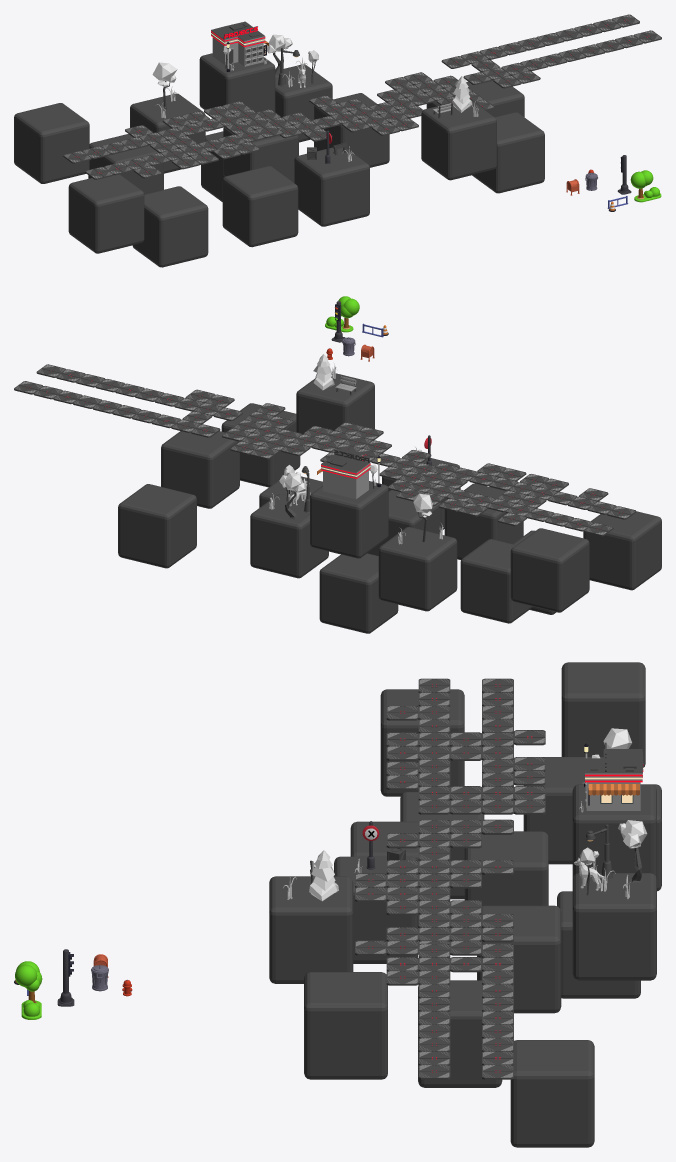
3 views of the same model, one above another, from view 1: azimuth 30°, elevation 25°; view 2: azimuth 150°, elevation 25°; view 3: azimuth 270°, elevation 25° (orthographic). The views are drawn at different scales.
Parts seen in each view (by area): view 1: cubes background, Plane.026, Plane.025, Plane.032, Plane.031, Plane.003, Cube.024, Trees; view 2: cubes background, Plane.026, Plane.025, Plane.031, Plane.032, Plane.003, Cube.024, Trees; view 3: cubes background, Plane.025, Plane.031, Plane.026, Plane.032, Plane.003, Cube.024, Trees.
Part boxes in pixels (left/top/right/bottom): cubes background: left=14, top=53, right=544, bottom=267; Plane.026: left=441, top=14, right=639, bottom=68; Plane.025: left=463, top=30, right=661, bottom=84; Plane.032: left=63, top=109, right=261, bottom=163; Plane.031: left=85, top=125, right=283, bottom=179; Plane.003: left=279, top=85, right=472, bottom=138; Cube.024: left=211, top=21, right=265, bottom=66; Trees: left=630, top=170, right=661, bottom=202; cubes background: left=118, top=372, right=661, bottom=633; Plane.026: left=14, top=381, right=220, bottom=437; Plane.025: left=36, top=364, right=242, bottom=421; Plane.031: left=430, top=463, right=636, bottom=519; Plane.032: left=407, top=479, right=613, bottom=536; Plane.003: left=233, top=419, right=435, bottom=474; Cube.024: left=321, top=449, right=370, bottom=498; Trees: left=325, top=296, right=359, bottom=332; cubes background: left=269, top=662, right=661, bottom=1147; Plane.025: left=418, top=943, right=450, bottom=1079; Plane.031: left=418, top=678, right=450, bottom=814; Plane.026: left=482, top=943, right=513, bottom=1079; Plane.032: left=482, top=678, right=513, bottom=814; Plane.003: left=418, top=819, right=450, bottom=944; Cube.024: left=585, top=749, right=643, bottom=810; Trees: left=15, top=961, right=42, bottom=1019.
Bounding box in the file's own units: 23.18 × 6.08 × 15.42.
Materials: 19 (9 with a texture image).
